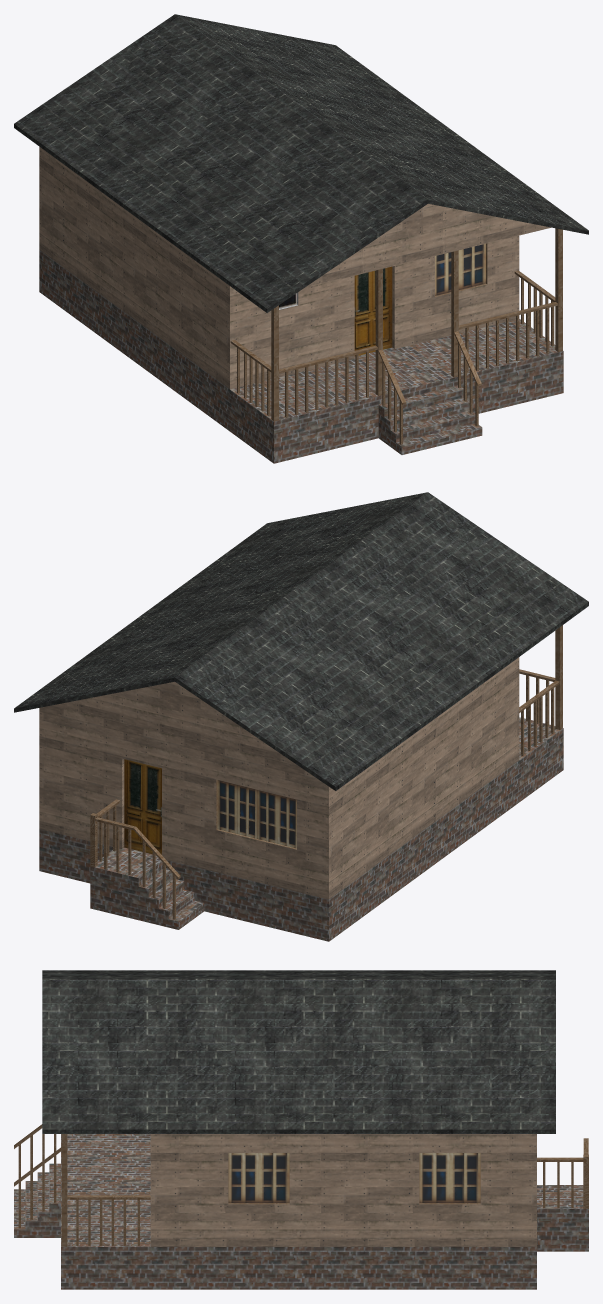
Rendered from house4_tex3.glb.
The picture shows the model from 3 angles, top to bottom: view 1: azimuth 30°, elevation 25°; view 2: azimuth 150°, elevation 25°; view 3: azimuth 270°, elevation 25°; orthographic projection.
Visible parts, largest first — view 1: house4, house4_door1, house4_windows; view 2: house4, house4_windows, house4_door2; view 3: house4, house4_windows.
Boxes of the visible parts, x1,y1,x2,y2 form: house4: (14, 14, 588, 463); house4_door1: (354, 266, 392, 356); house4_windows: (279, 243, 487, 309); house4: (14, 492, 588, 941); house4_windows: (216, 779, 296, 849); house4_door2: (124, 759, 161, 854); house4: (14, 970, 588, 1289); house4_windows: (228, 1153, 480, 1204).
Bounding box in the file's own units: 8 × 5.6 × 12.2.
1 material, 1 textured.
